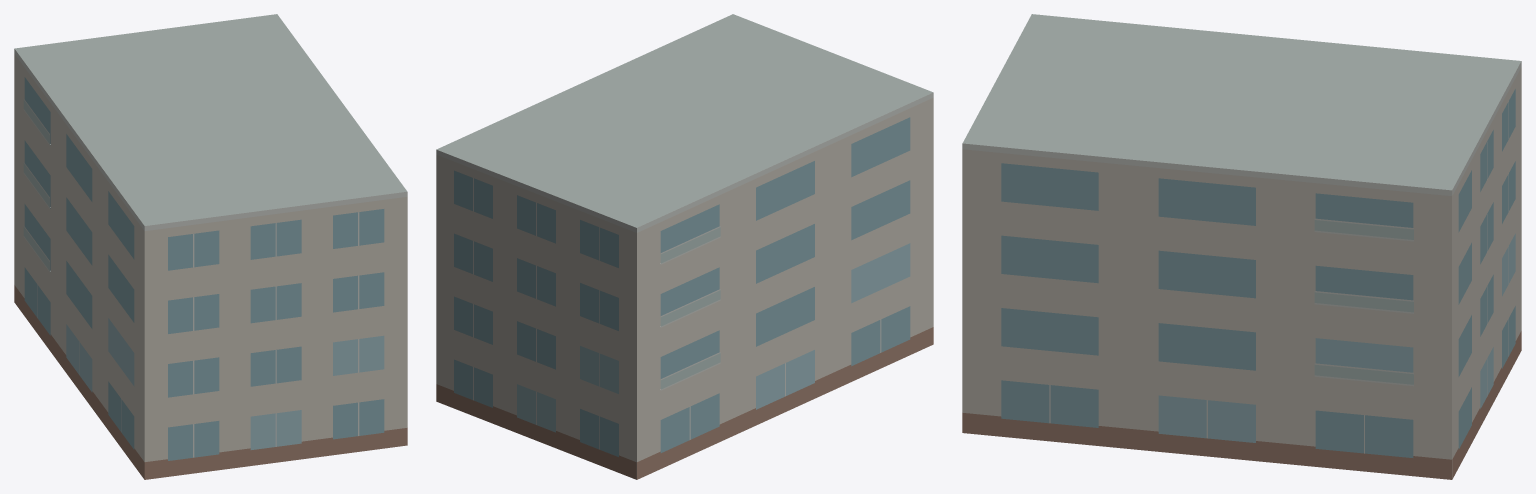
Rendered from residential-3d3b170d-5d91-488b-83d5-b37db0e71632.glb.
3 renders of one model, left to right at view 1: azimuth 30°, elevation 25°; view 2: azimuth 150°, elevation 25°; view 3: azimuth 270°, elevation 25°, orthographic. The views are drawn at different scales.
Visible parts, largest first — view 1: residential-3d3b170d-5d91-488b-83d5-b37db0e71632.tmp; view 2: residential-3d3b170d-5d91-488b-83d5-b37db0e71632.tmp; view 3: residential-3d3b170d-5d91-488b-83d5-b37db0e71632.tmp.
Part boxes in pixels (left/top/right/bottom): residential-3d3b170d-5d91-488b-83d5-b37db0e71632.tmp: left=14, top=14, right=407, bottom=479; residential-3d3b170d-5d91-488b-83d5-b37db0e71632.tmp: left=436, top=14, right=933, bottom=479; residential-3d3b170d-5d91-488b-83d5-b37db0e71632.tmp: left=962, top=14, right=1521, bottom=479.
Size of the model in its own units: 15.95 by 12.2 by 21.36.
